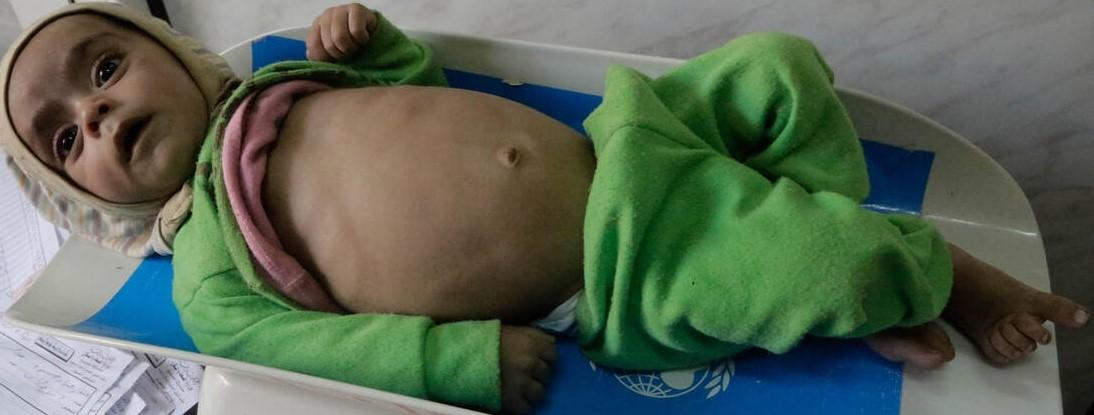Stunting: (12, 12, 222, 263)
